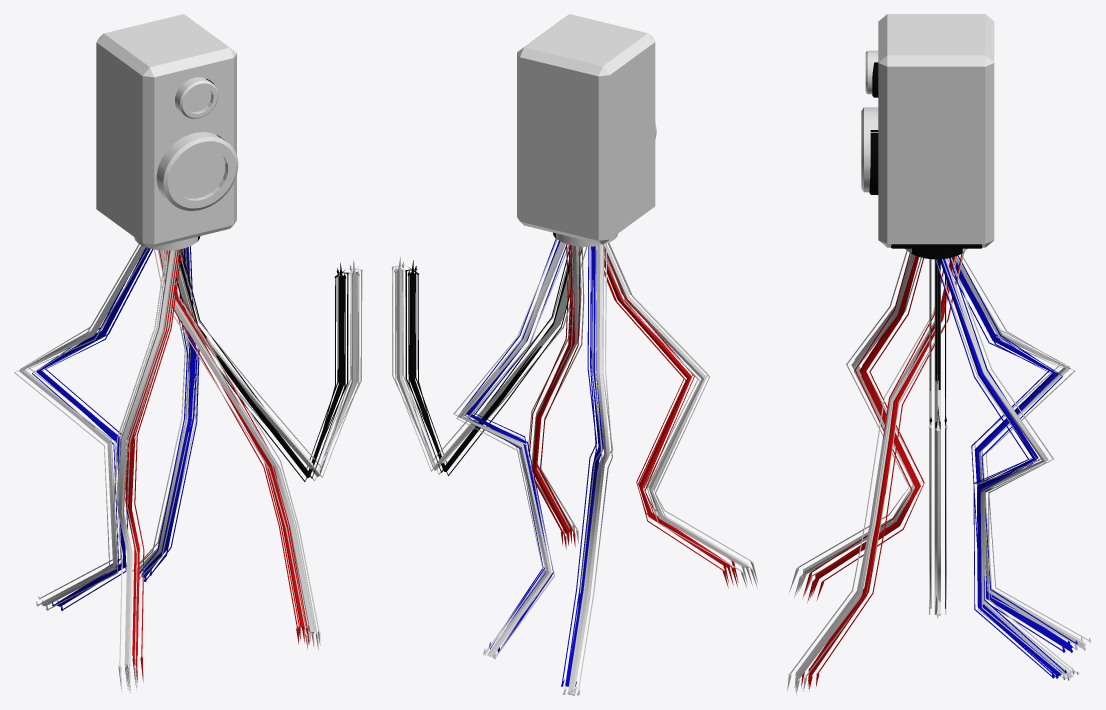
Rendered from Tall_Model (1).fbx.
3 views of the same model, side by side, from view 1: azimuth 30°, elevation 25°; view 2: azimuth 150°, elevation 25°; view 3: azimuth 270°, elevation 25° (orthographic). The views are drawn at different scales.
Parts seen in each view (by area): view 1: Right4, Middle1, Right1, Front1, Back1, Left1; view 2: Right4, Middle1, Front1, Right1, Back1, Left1; view 3: Right4, Left1, Right1, Front1, Back1, Middle1, Body.
Boxes of the visible parts, x1,y1,x2,y2 form: Right4: [14, 14, 362, 693]; Middle1: [169, 249, 348, 481]; Right1: [32, 247, 153, 610]; Front1: [125, 249, 182, 685]; Back1: [159, 250, 310, 644]; Left1: [139, 246, 199, 581]; Right4: [391, 14, 758, 695]; Middle1: [405, 249, 581, 475]; Front1: [603, 246, 738, 588]; Right1: [561, 246, 603, 686]; Back1: [528, 244, 580, 549]; Left1: [462, 238, 566, 652]; Right4: [787, 14, 1091, 695]; Left1: [934, 258, 1066, 678]; Right1: [950, 255, 1077, 652]; Front1: [803, 253, 924, 602]; Back1: [801, 253, 962, 691]; Middle1: [929, 259, 946, 608]; Body: [869, 62, 982, 259].
Size of the model in its own units: 3.56 by 6.72 by 2.89.
